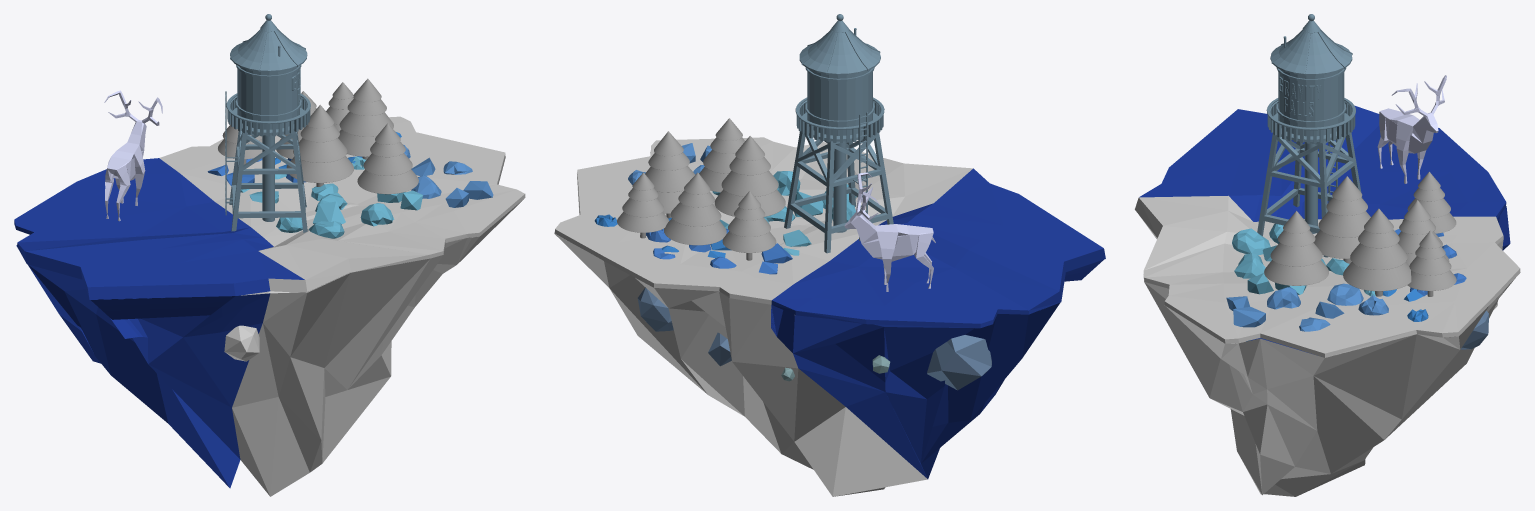
The model's file is snowland_base.obj.
3 views of the same model, side by side, from view 1: azimuth 30°, elevation 25°; view 2: azimuth 150°, elevation 25°; view 3: azimuth 270°, elevation 25° (orthographic). The views are drawn at different scales.
Visible parts, largest first — view 1: Plane.001_Plane.002, Water_Tower_01, pCylinder1.001, Icosphere.010_Icosphere.011, pCylinder1.003_pCylinder1.004, Plane.002_Plane.001, pCylinder1.002, Icosphere.008_Icosphere.009, Icosphere.009_Icosphere.010, pCylinder1.004_pCylinder1.005, pCylinder1.005_pCylinder1.006, Icosphere.006_Icosphere.007; view 2: Plane.001_Plane.002, Water_Tower_01, Icosphere.003, Plane.002_Plane.001, pCylinder1.001, pCylinder1, pCylinder1.002, pCylinder1.005_pCylinder1.006, pCylinder1.004_pCylinder1.005, pCylinder1.003_pCylinder1.004, Icosphere.012, Icosphere.010_Icosphere.011; view 3: Plane.001_Plane.002, Water_Tower_01, pCylinder1.002, Icosphere.008_Icosphere.009, Plane.002_Plane.001, pCylinder1.003_pCylinder1.004, pCylinder1.001, Icosphere.010_Icosphere.011, pCylinder1.004_pCylinder1.005, pCylinder1.005_pCylinder1.006, pCylinder1, Icosphere.003 (+1 smaller).
Boxes of the visible parts, box(x1,y1,x2,y2) form: Plane.001_Plane.002: box(14, 116, 525, 496); Water_Tower_01: box(225, 14, 310, 232); pCylinder1.001: box(286, 105, 353, 186); Icosphere.010_Icosphere.011: box(276, 190, 422, 238); pCylinder1.003_pCylinder1.004: box(357, 123, 418, 194); Plane.002_Plane.001: box(104, 90, 162, 221); pCylinder1.002: box(338, 78, 393, 159); Icosphere.008_Icosphere.009: box(403, 145, 493, 207); Icosphere.009_Icosphere.010: box(224, 325, 259, 361); pCylinder1.004_pCylinder1.005: box(326, 82, 353, 131); pCylinder1.005_pCylinder1.006: box(218, 122, 262, 164); Icosphere.006_Icosphere.007: box(240, 156, 366, 203); Plane.001_Plane.002: box(554, 137, 1105, 496); Water_Tower_01: box(784, 14, 893, 253); Icosphere.003: box(637, 287, 991, 390); Plane.002_Plane.001: box(844, 172, 935, 291); pCylinder1.001: box(714, 136, 785, 216); pCylinder1: box(664, 172, 726, 245); pCylinder1.002: box(645, 131, 695, 218); pCylinder1.005_pCylinder1.006: box(722, 191, 776, 260); pCylinder1.004_pCylinder1.005: box(617, 172, 668, 238); pCylinder1.003_pCylinder1.004: box(699, 118, 744, 192); Icosphere.012: box(646, 228, 792, 274); Icosphere.010_Icosphere.011: box(712, 171, 856, 222); Plane.001_Plane.002: box(1134, 106, 1520, 496); Water_Tower_01: box(1257, 14, 1362, 257); pCylinder1.002: box(1343, 208, 1411, 296); Icosphere.008_Icosphere.009: box(1226, 283, 1388, 341); Plane.002_Plane.001: box(1377, 75, 1446, 183); pCylinder1.003_pCylinder1.004: box(1264, 211, 1328, 285); pCylinder1.001: box(1313, 176, 1370, 263); Icosphere.010_Icosphere.011: box(1232, 223, 1325, 294); pCylinder1.004_pCylinder1.005: box(1407, 230, 1456, 296); pCylinder1.005_pCylinder1.006: box(1402, 171, 1456, 233); pCylinder1: box(1398, 200, 1449, 265); Icosphere.003: box(1460, 310, 1488, 349).
Bounding box in the file's own units: 39.44 × 37.07 × 26.54.
